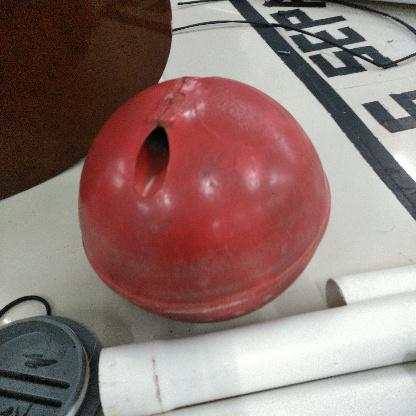red_buoy: (76, 75, 332, 324)
